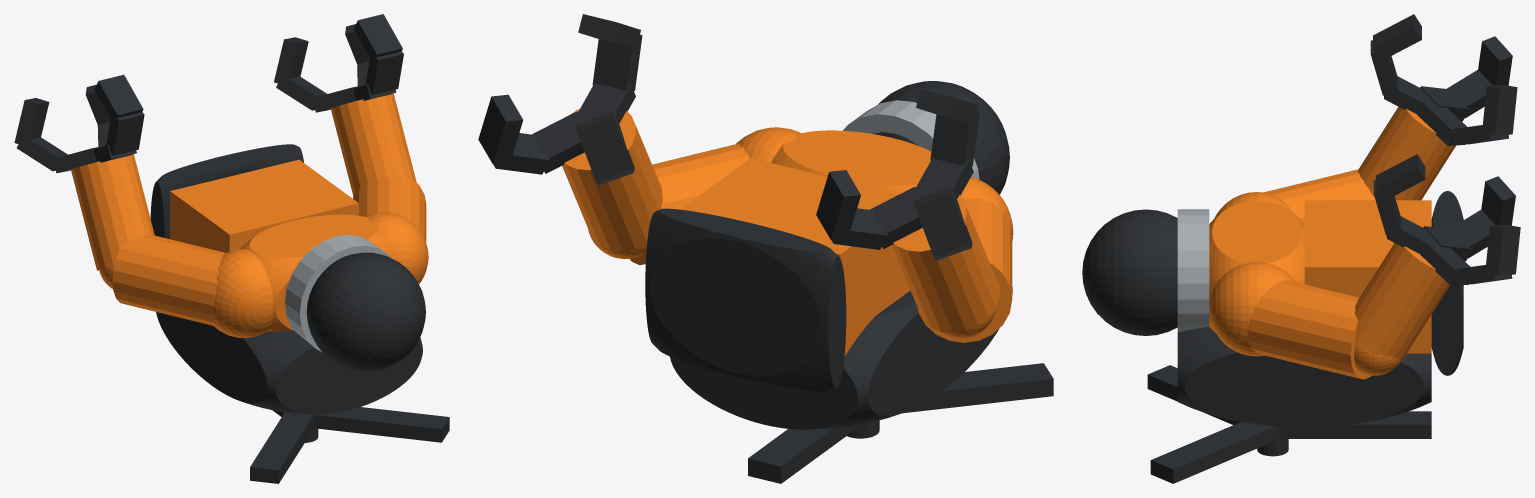
Rendered from tinker.obj.
3 views of the same model, side by side, from view 1: azimuth 30°, elevation 25°; view 2: azimuth 150°, elevation 25°; view 3: azimuth 270°, elevation 25° (orthographic). The views are drawn at different scales.
Visible parts, largest first — view 1: group_0_2829873, group_0_16089887, group_0_10988977; view 2: group_0_2829873, group_0_16089887, group_0_10988977; view 3: group_0_2829873, group_0_16089887, group_0_10988977.
Boxes of the visible parts, <box> form: group_0_2829873: <box>14,14,449,483</box>; group_0_16089887: <box>71,93,428,337</box>; group_0_10988977: <box>285,234,391,352</box>; group_0_2829873: <box>478,14,1053,483</box>; group_0_16089887: <box>562,109,1013,355</box>; group_0_10988977: <box>843,100,979,179</box>; group_0_2829873: <box>1082,14,1520,483</box>; group_0_16089887: <box>1209,106,1455,379</box>; group_0_10988977: <box>1177,209,1209,332</box>.
Bounding box in the file's own units: 146 × 126 × 138.
